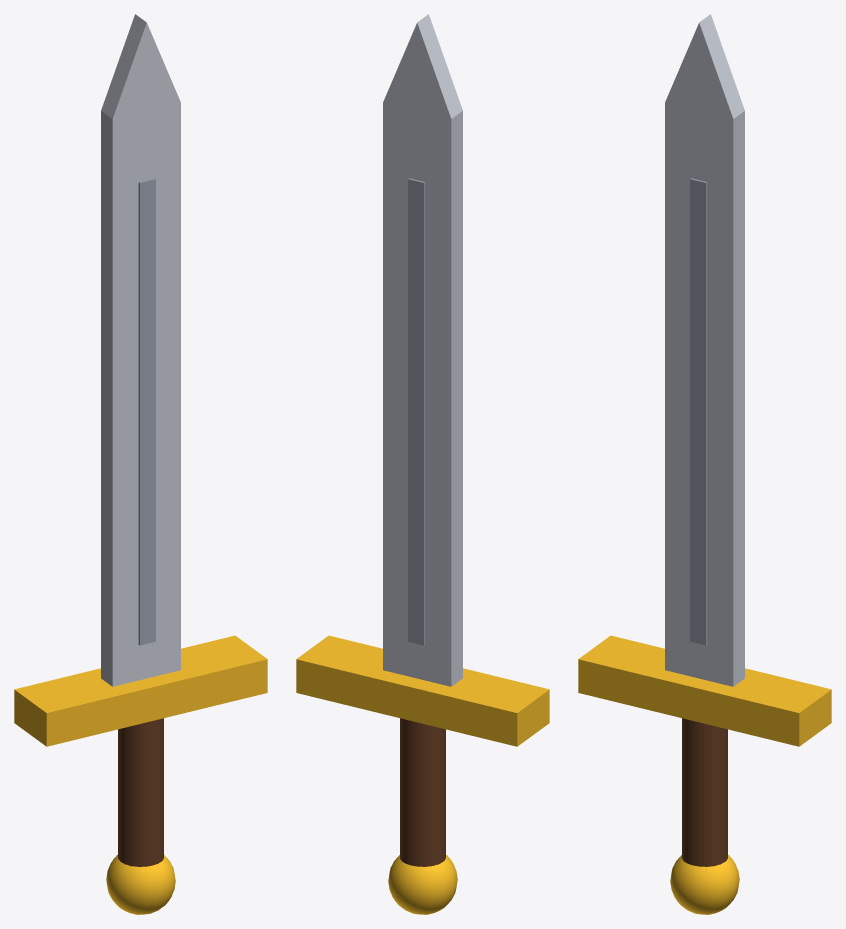
Rendered from sword.obj.
3 views of the same model, side by side, from view 1: azimuth 30°, elevation 25°; view 2: azimuth 150°, elevation 25°; view 3: azimuth 330°, elevation 25° (orthographic).
Visible parts, largest first — view 1: Blade, Guard, Fuller, Grip, Pommel, TipL, TipR; view 2: Blade, Guard, Fuller, Grip, Pommel, TipL, TipR; view 3: Blade, Guard, Fuller, Grip, Pommel, TipR, TipL.
Boxes of the visible parts, x1=… form: Blade: x1=101, y1=102, x2=180, y2=686; Guard: x1=14, y1=635, x2=267, y2=746; Fuller: x1=138, y1=178, x2=155, y2=645; Grip: x1=118, y1=718, x2=163, y2=866; Pommel: x1=106, y1=855, x2=175, y2=914; TipL: x1=101, y1=14, x2=146, y2=118; TipR: x1=146, y1=23, x2=180, y2=110; Blade: x1=383, y1=102, x2=462, y2=686; Guard: x1=296, y1=635, x2=549, y2=746; Fuller: x1=408, y1=178, x2=425, y2=645; Grip: x1=400, y1=718, x2=445, y2=866; Pommel: x1=388, y1=855, x2=457, y2=914; TipL: x1=417, y1=14, x2=462, y2=118; TipR: x1=383, y1=23, x2=417, y2=110; Blade: x1=665, y1=102, x2=744, y2=686; Guard: x1=578, y1=635, x2=831, y2=746; Fuller: x1=690, y1=178, x2=707, y2=645; Grip: x1=682, y1=718, x2=727, y2=866; Pommel: x1=670, y1=855, x2=739, y2=914; TipR: x1=699, y1=14, x2=744, y2=118; TipL: x1=665, y1=23, x2=699, y2=110.
Size of the model in its own units: 1.1 by 4.25 by 0.3.
